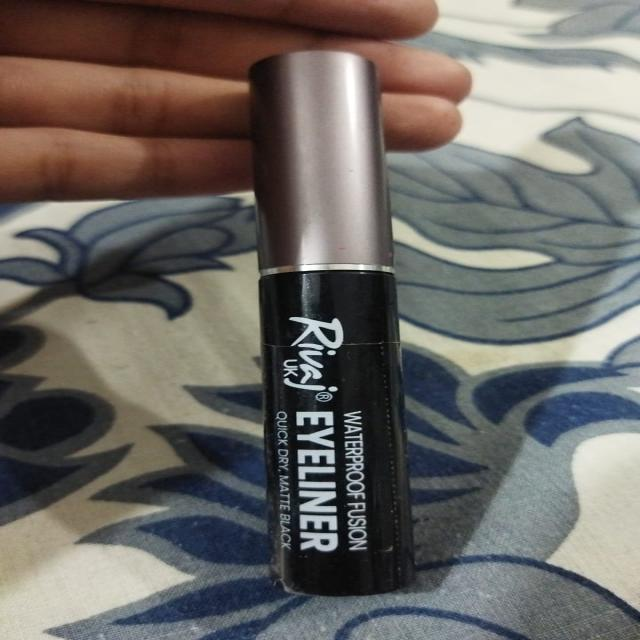eye liner: (243, 36, 428, 628)
